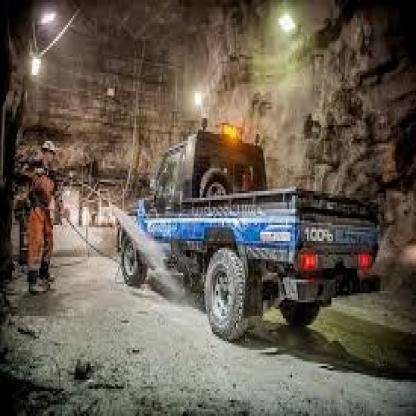light_vehicle: (85, 130, 401, 338)
